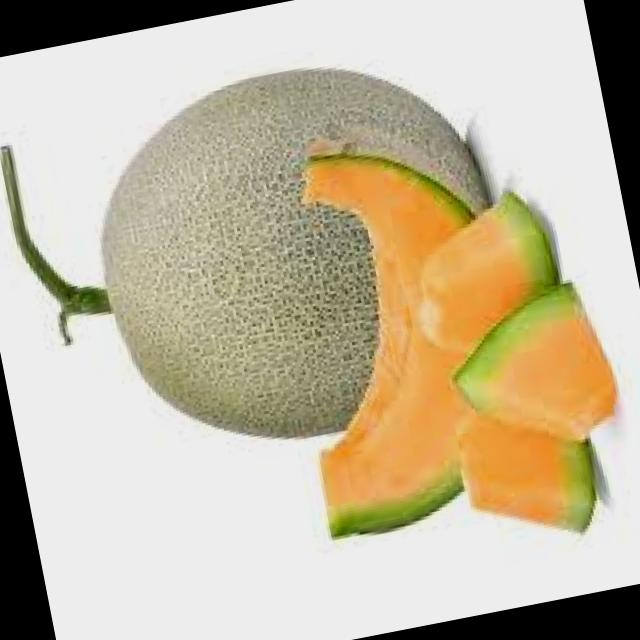cantaloupe: (0, 59, 404, 487), (253, 133, 473, 544)
